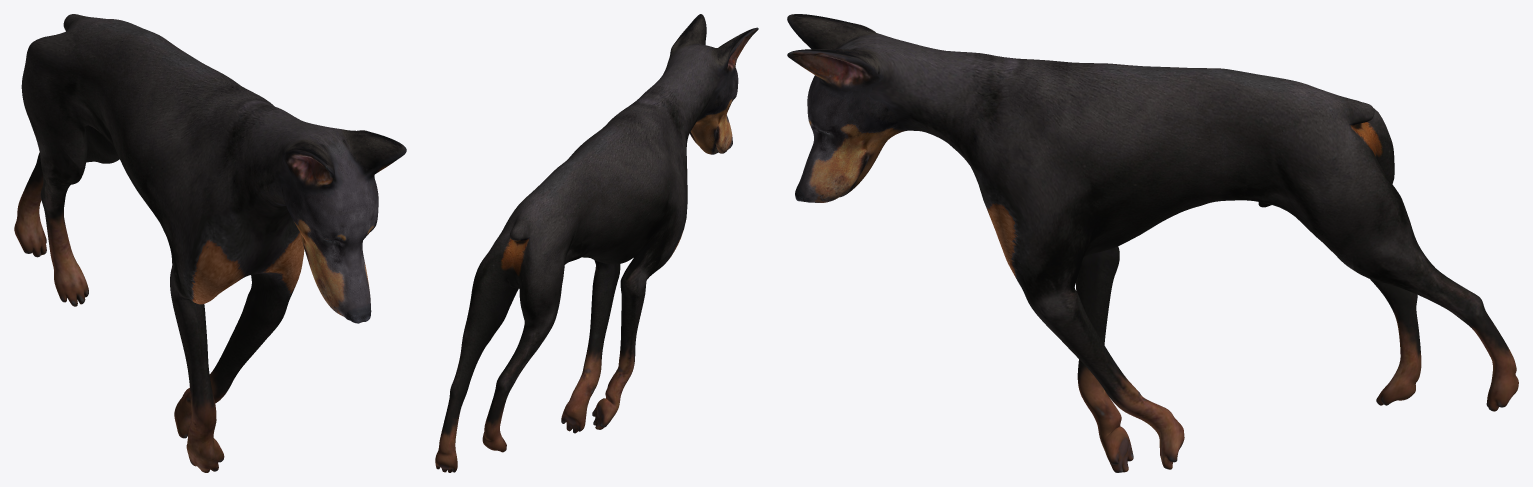
The model's file is doberman-teaching.glb.
3 views of the same model, side by side, from view 1: azimuth 30°, elevation 25°; view 2: azimuth 150°, elevation 25°; view 3: azimuth 270°, elevation 25° (orthographic). The views are drawn at different scales.
Visible parts, largest first — view 1: VETIC_Canine_Mannequin; view 2: VETIC_Canine_Mannequin; view 3: VETIC_Canine_Mannequin.
Part boxes in pixels (x1,y1,x2,y2): VETIC_Canine_Mannequin: (14,14,406,472); VETIC_Canine_Mannequin: (435,14,758,472); VETIC_Canine_Mannequin: (787,14,1518,472).
Size of the model in its own units: 0.2231 by 0.7214 by 1.1.
Materials: 1 (1 with a texture image).
